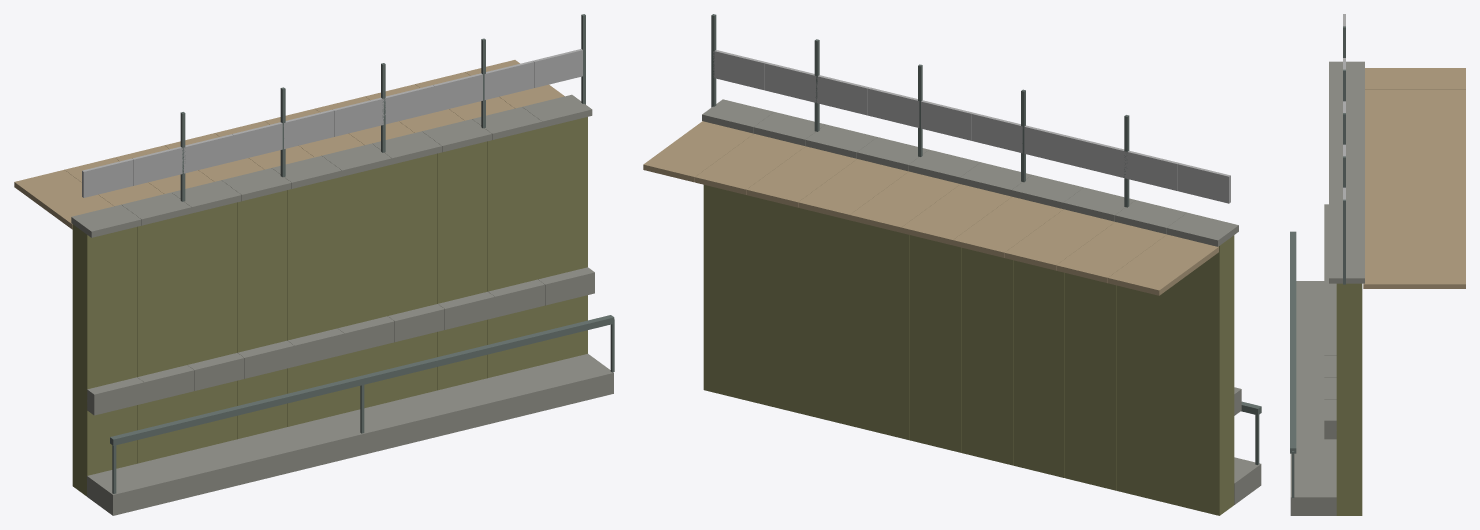
The model's file is SM_MuroRampa_v3_Pasillo_e0_Sano_LOD1.fbx.
The picture shows the model from 3 angles, left to right: view 1: azimuth 30°, elevation 25°; view 2: azimuth 150°, elevation 25°; view 3: azimuth 270°, elevation 25°; orthographic projection. The views are drawn at different scales.
Parts seen in each view (by area): view 1: SM_muro_rampa_v12_LOD1; view 2: SM_muro_rampa_v12_LOD1; view 3: SM_muro_rampa_v12_LOD1.
Boxes of the visible parts, x1,y1,x2,y2 form: SM_muro_rampa_v12_LOD1: [14, 14, 614, 515]; SM_muro_rampa_v12_LOD1: [643, 14, 1261, 515]; SM_muro_rampa_v12_LOD1: [1290, 14, 1465, 515].
Bounding box in the file's own units: 10.03 × 6.8 × 3.43.
